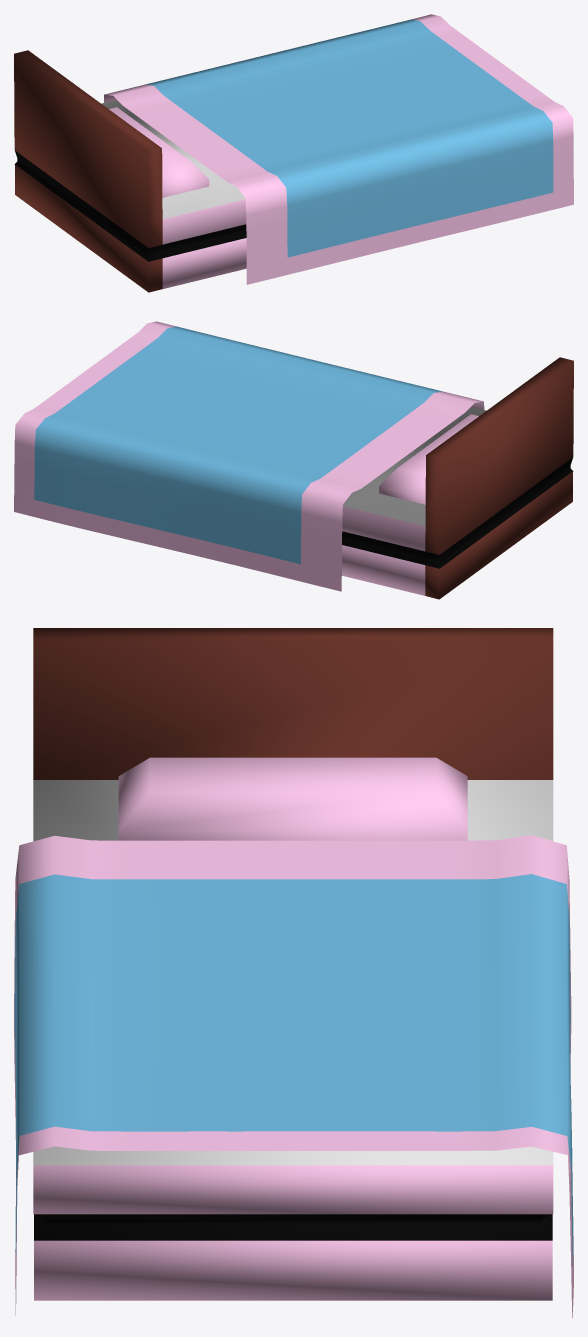
File: NormalBed2.fbx
The picture shows the model from 3 angles, top to bottom: view 1: azimuth 30°, elevation 25°; view 2: azimuth 150°, elevation 25°; view 3: azimuth 270°, elevation 25°; orthographic projection. The views are drawn at different scales.
Parts seen in each view (by area): view 1: Plane, Cube; view 2: Plane, Cube; view 3: Cube, Plane.
Boxes of the visible parts, x1,y1,x2,y2 form: Plane: (104, 14, 573, 284); Cube: (14, 50, 246, 292); Plane: (14, 321, 484, 591); Cube: (342, 357, 573, 599); Cube: (33, 628, 553, 1300); Plane: (14, 835, 573, 1317).
Bounding box in the file's own units: 206 × 122 × 71.19.
